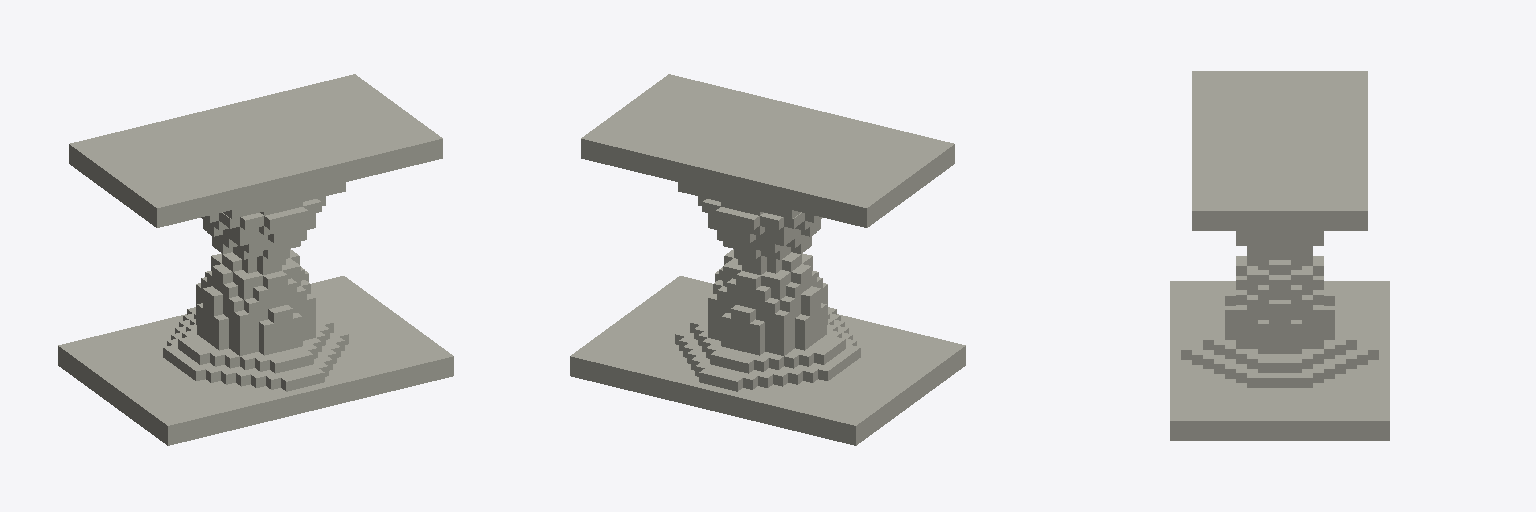
The picture shows the model from 3 angles: view 1: azimuth 30°, elevation 25°; view 2: azimuth 150°, elevation 25°; view 3: azimuth 270°, elevation 25°; orthographic projection.
Parts seen in each view (by area): view 1: Model; view 2: Model; view 3: Model.
Boxes of the visible parts, <box> form: Model: <box>58,74,453,445</box>; Model: <box>570,74,965,445</box>; Model: <box>1170,71,1389,440</box>.
Size of the model in its own units: 32 by 24.53 by 21.33.
1 materials, 1 textured.